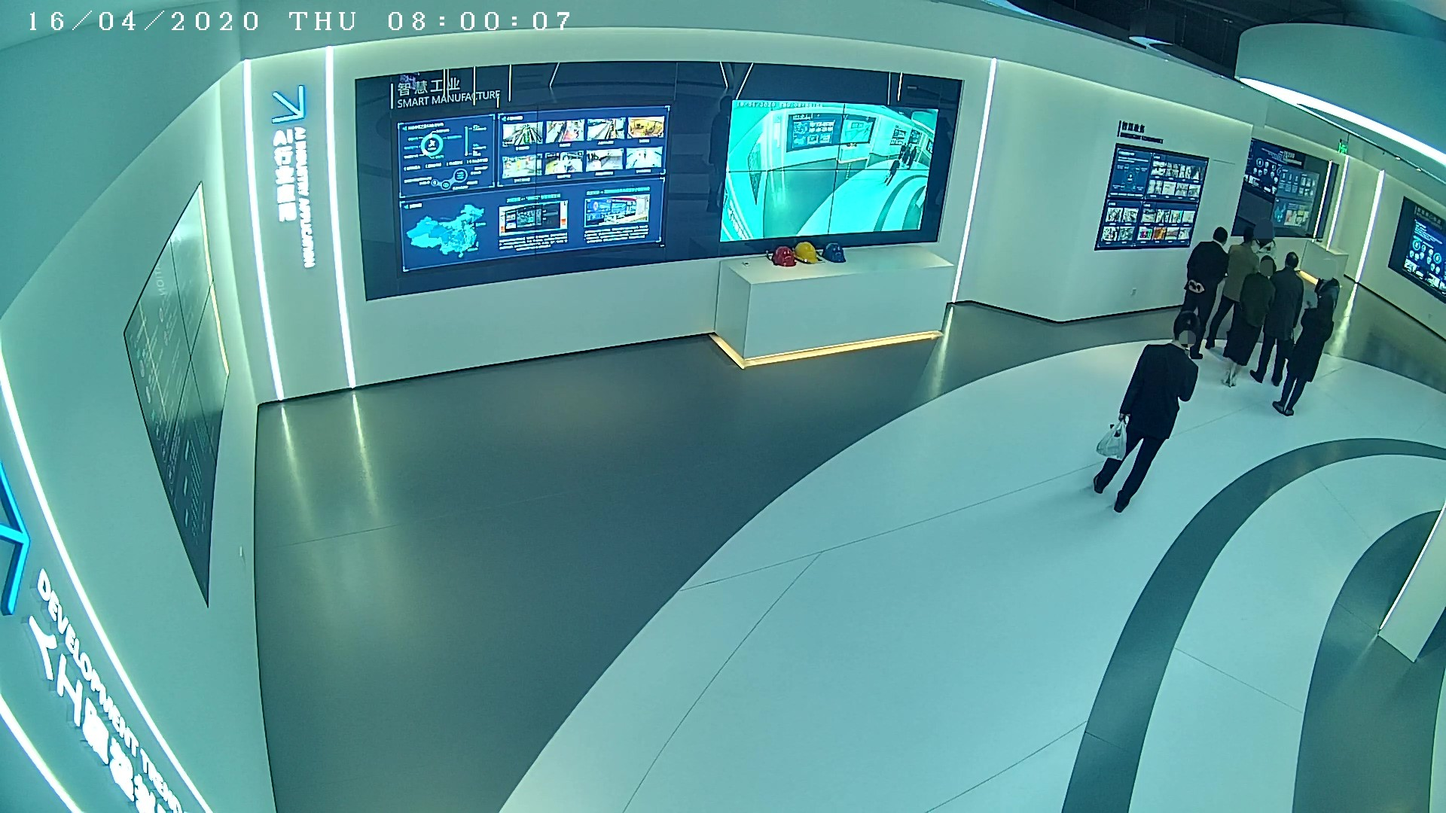head: (1169, 308, 1200, 347), (1314, 291, 1338, 313), (1319, 258, 1338, 279), (1256, 220, 1274, 242), (1258, 254, 1276, 274), (1240, 227, 1258, 247), (1283, 251, 1300, 270), (1210, 227, 1229, 244)
person: (1088, 308, 1202, 514), (1270, 291, 1338, 416), (1246, 251, 1307, 384), (1218, 254, 1278, 388), (1171, 227, 1231, 359), (1203, 225, 1260, 356), (1247, 218, 1280, 267), (1310, 258, 1343, 305)
